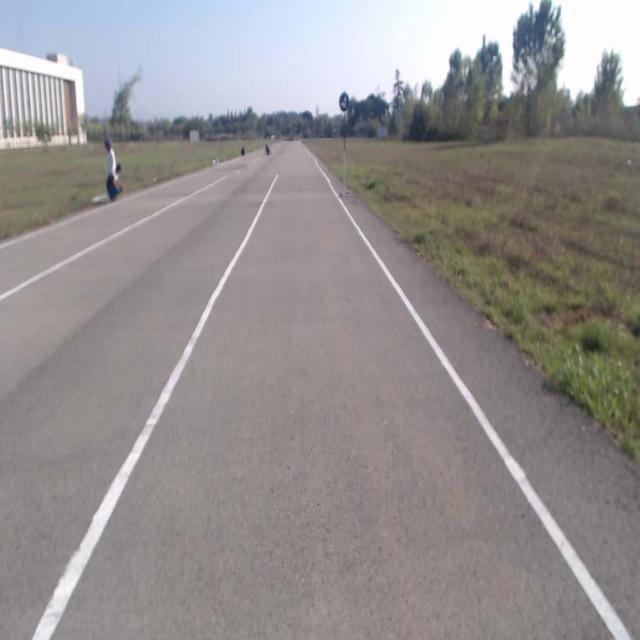ilerisol: (339, 93, 349, 111)
